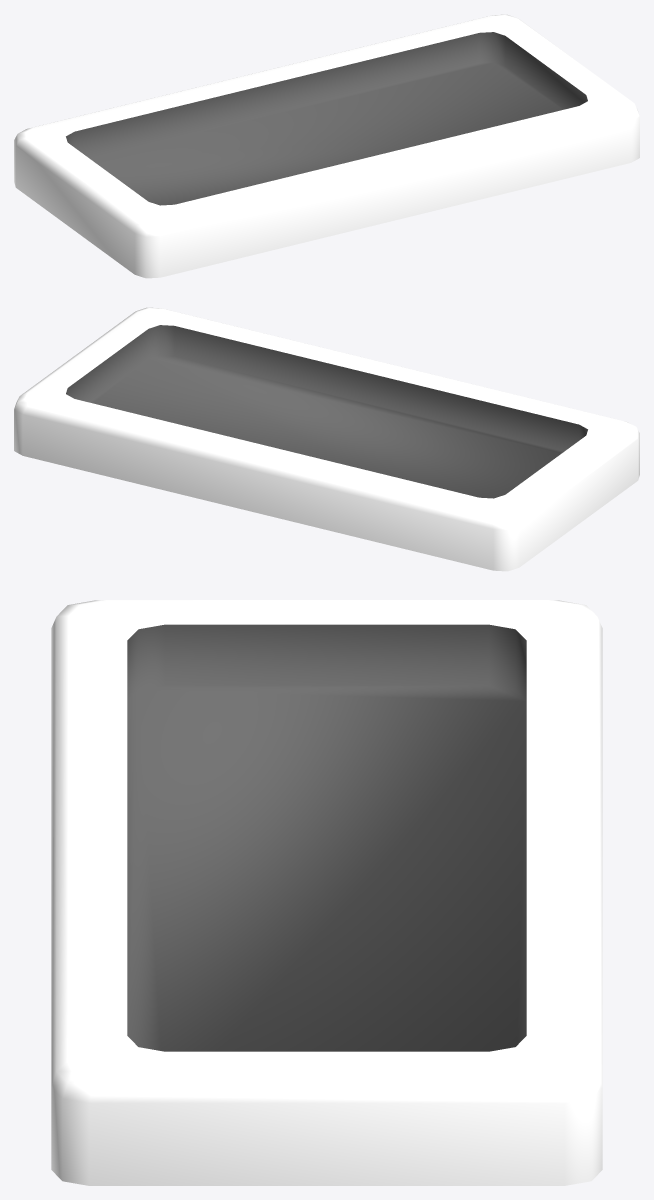
Rendered from button_base_rectangle.glb.
3 renders of one model, top to bottom at view 1: azimuth 30°, elevation 25°; view 2: azimuth 150°, elevation 25°; view 3: azimuth 270°, elevation 25°, orthographic. The views are drawn at different scales.
Parts seen in each view (by area): view 1: Cube.002; view 2: Cube.002; view 3: Cube.002.
Part boxes in pixels (bbox=[...]): Cube.002: bbox=[14, 14, 639, 278]; Cube.002: bbox=[14, 307, 639, 571]; Cube.002: bbox=[51, 600, 602, 1185].
Size of the model in its own units: 0.4754 by 0.0461 by 0.2254.
1 material, 1 textured.
